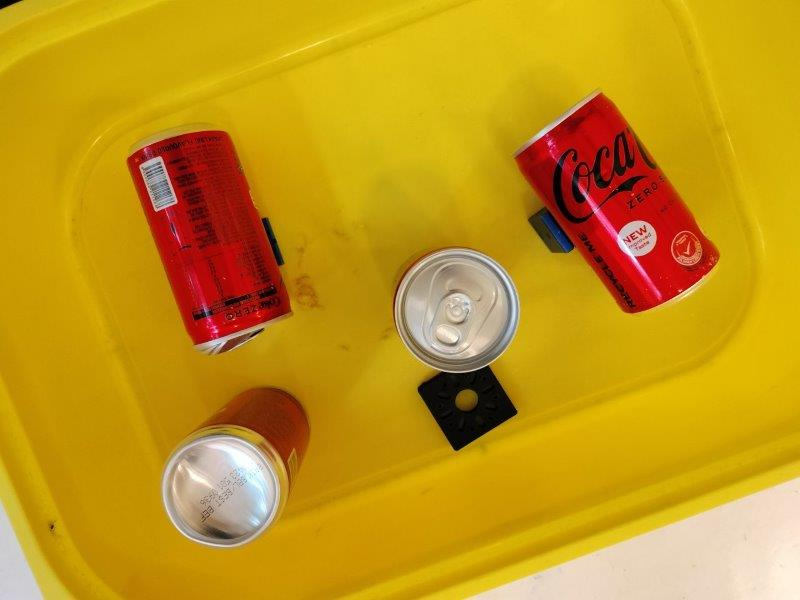Coke: (513, 89, 720, 316), (126, 123, 293, 347), (160, 386, 312, 548), (393, 244, 519, 373)
